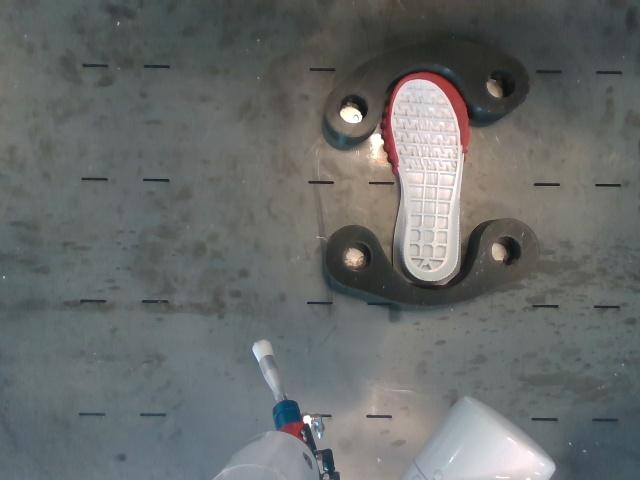shoes: (391, 72, 469, 281)
